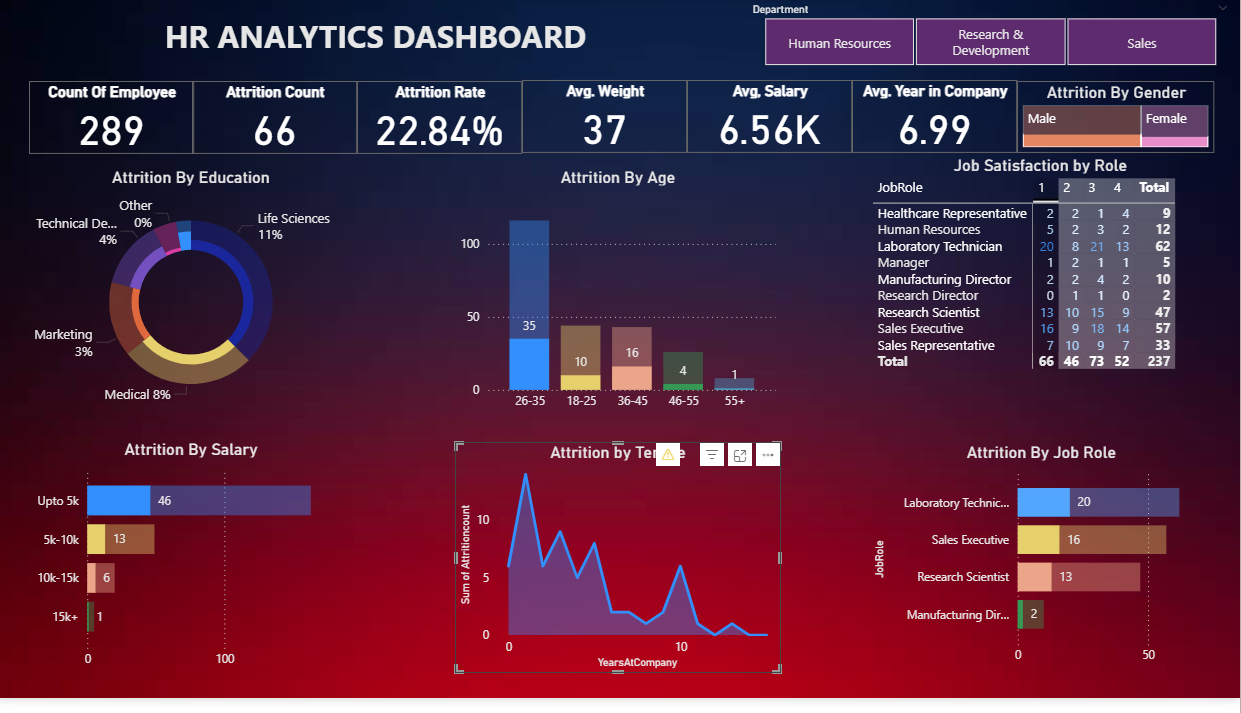

This screenshot's page, from the dashboard's own definition file:
{"tool":"powerbi","page":{"name":"Page 1","canvas":[1280,720],"ordinal":0},"visuals":[{"type":"card","title":"Count Of Employee","fields":{"Values":["CountNonNull(HR_Analytics.EmpID)"]},"box":[34,85.4,169.8,75.1],"z":0},{"type":"card","title":"Attrition Count","fields":{"Values":["Sum(HR_Analytics.Attritioncount)"]},"box":[201.7,85.4,169.8,75.1],"z":1000},{"type":"card","title":"Attrition Rate","fields":{"Values":["HR_Analytics.AttritationRate"]},"box":[371.4,85.4,169.8,75.1],"z":2000},{"type":"card","title":"Avg. Weight","fields":{"Values":["Avg(HR_Analytics.Age)"]},"box":[541.2,84.4,169.8,75.1],"z":3000},{"type":"card","title":"Avg, Salary","fields":{"Values":["Avg(HR_Analytics.MonthlyIncome)"]},"box":[711,84.4,169.8,75.1],"z":4000},{"type":"card","title":"Avg.  Year in Company","fields":{"Values":["Avg(HR_Analytics.YearsAtCompany)"]},"box":[880.8,84.4,169.8,75.1],"z":5000},{"type":"donutChart","title":"Attrition By Education","fields":{"Category":["HR_Analytics.EducationField"],"Y":["Sum(HR_Analytics.Attritioncount)"]},"box":[32.9,173.9,335.4,259.3],"z":6000},{"type":"columnChart","title":"Attrition By Age","fields":{"Category":["HR_Analytics.AgeGroup"],"Y":["Sum(HR_Analytics.Attritioncount)"]},"box":[472.3,173.9,335.4,259.3],"z":7000},{"type":"pivotTable","title":"Job Satisfaction Depending Job role","fields":{"Rows":["HR_Analytics.JobRole"],"Columns":["HR_Analytics.JobSatisfaction"],"Values":["Sum(HR_Analytics.Attritioncount)"]},"box":[897.2,161.3,355.3,259.3],"z":8000},{"type":"barChart","title":"Attrition By Salary","fields":{"Category":["HR_Analytics.SalarySlab"],"Y":["Sum(HR_Analytics.Attritioncount)"]},"box":[32.6,453.3,335.8,244.4],"z":9000},{"type":"barChart","title":"Attrition By Job Role","fields":{"Y":["Sum(HR_Analytics.Attritioncount)"],"Category":["HR_Analytics.JobRole"]},"box":[898.3,456.8,355,237.7],"z":10000},{"type":"areaChart","title":"Job Satisfaction Depending Job role","fields":{"Category":["HR_Analytics.YearsAtCompany"],"Y":["Sum(HR_Analytics.Attritioncount)"]},"box":[472.3,456.8,335.4,237.7],"z":11000},{"type":"treemap","title":"Attrition By Gender","fields":{"Group":["HR_Analytics.Gender"],"Values":["Sum(HR_Analytics.Attritioncount)"]},"box":[1050.5,85.4,202.7,74.1],"z":12000},{"type":"slicer","fields":{"Values":["HR_Analytics.Department"]},"box":[765.5,0,514.5,76.1],"z":13000},{"type":"textbox","box":[0,11.3,781,74.1],"z":14000}]}

Visuals, with their boxes in screenshot pixels (x1, y1, x2, y2), scaled from the page's 1280x720 canvas onto the 1241x713 screenshot:
"Count Of Employee" card: BBox(33, 85, 198, 159)
"Attrition Count" card: BBox(196, 85, 360, 159)
"Attrition Rate" card: BBox(360, 85, 525, 159)
"Avg. Weight" card: BBox(525, 84, 689, 158)
"Avg, Salary" card: BBox(689, 84, 854, 158)
"Avg.  Year in Company" card: BBox(854, 84, 1019, 158)
"Attrition By Education" donutChart: BBox(32, 172, 357, 429)
"Attrition By Age" columnChart: BBox(458, 172, 783, 429)
"Job Satisfaction Depending Job role" pivotTable: BBox(870, 160, 1214, 417)
"Attrition By Salary" barChart: BBox(32, 449, 357, 691)
"Attrition By Job Role" barChart: BBox(871, 452, 1215, 688)
"Job Satisfaction Depending Job role" areaChart: BBox(458, 452, 783, 688)
"Attrition By Gender" treemap: BBox(1018, 85, 1215, 158)
slicer - HR_Analytics.Department: BBox(742, 0, 1240, 75)
textbox: BBox(0, 11, 757, 85)
